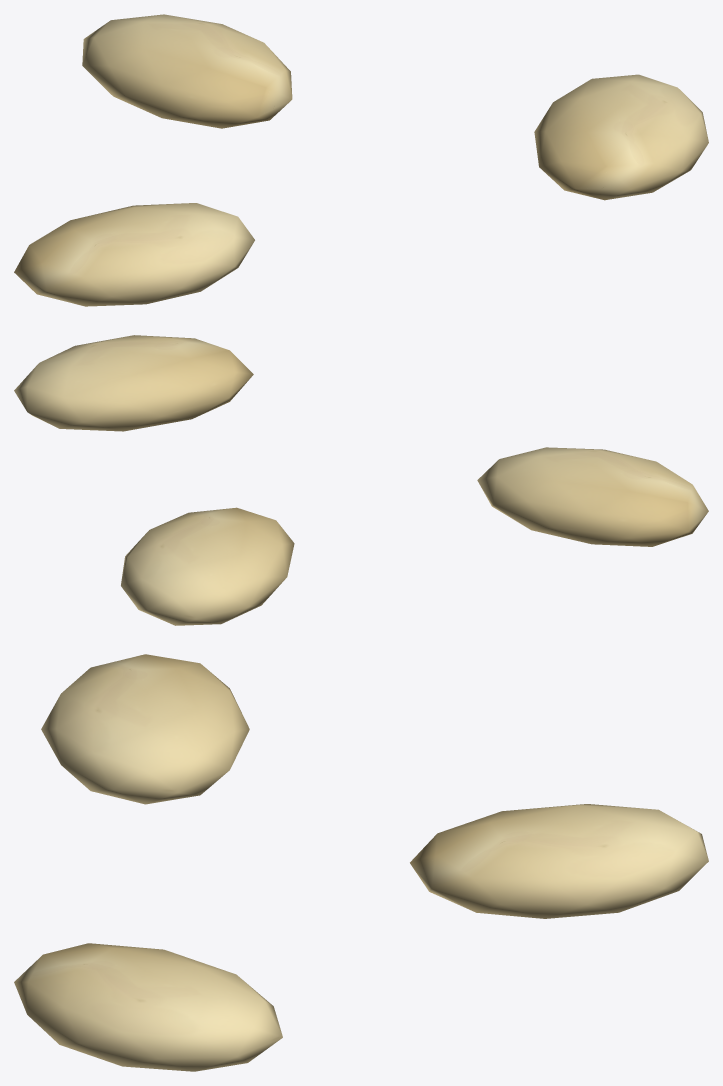
Rendered from NP_G02_SeedCream.fbx.
3 views of the same model, one above another, from view 1: azimuth 30°, elevation 25°; view 2: azimuth 150°, elevation 25°; view 3: azimuth 270°, elevation 25° (orthographic). The views are drawn at different scales.
Visible parts, largest first — view 1: NP_G02_SeedCream; view 2: NP_G02_SeedCream; view 3: NP_G02_SeedCream.
Boxes of the visible parts, x1,y1,x2,y2 form: NP_G02_SeedCream: (14, 14, 708, 306); NP_G02_SeedCream: (14, 335, 708, 625); NP_G02_SeedCream: (14, 654, 708, 1071).
Size of the model in its own units: 13.36 by 1.2 by 9.98.
